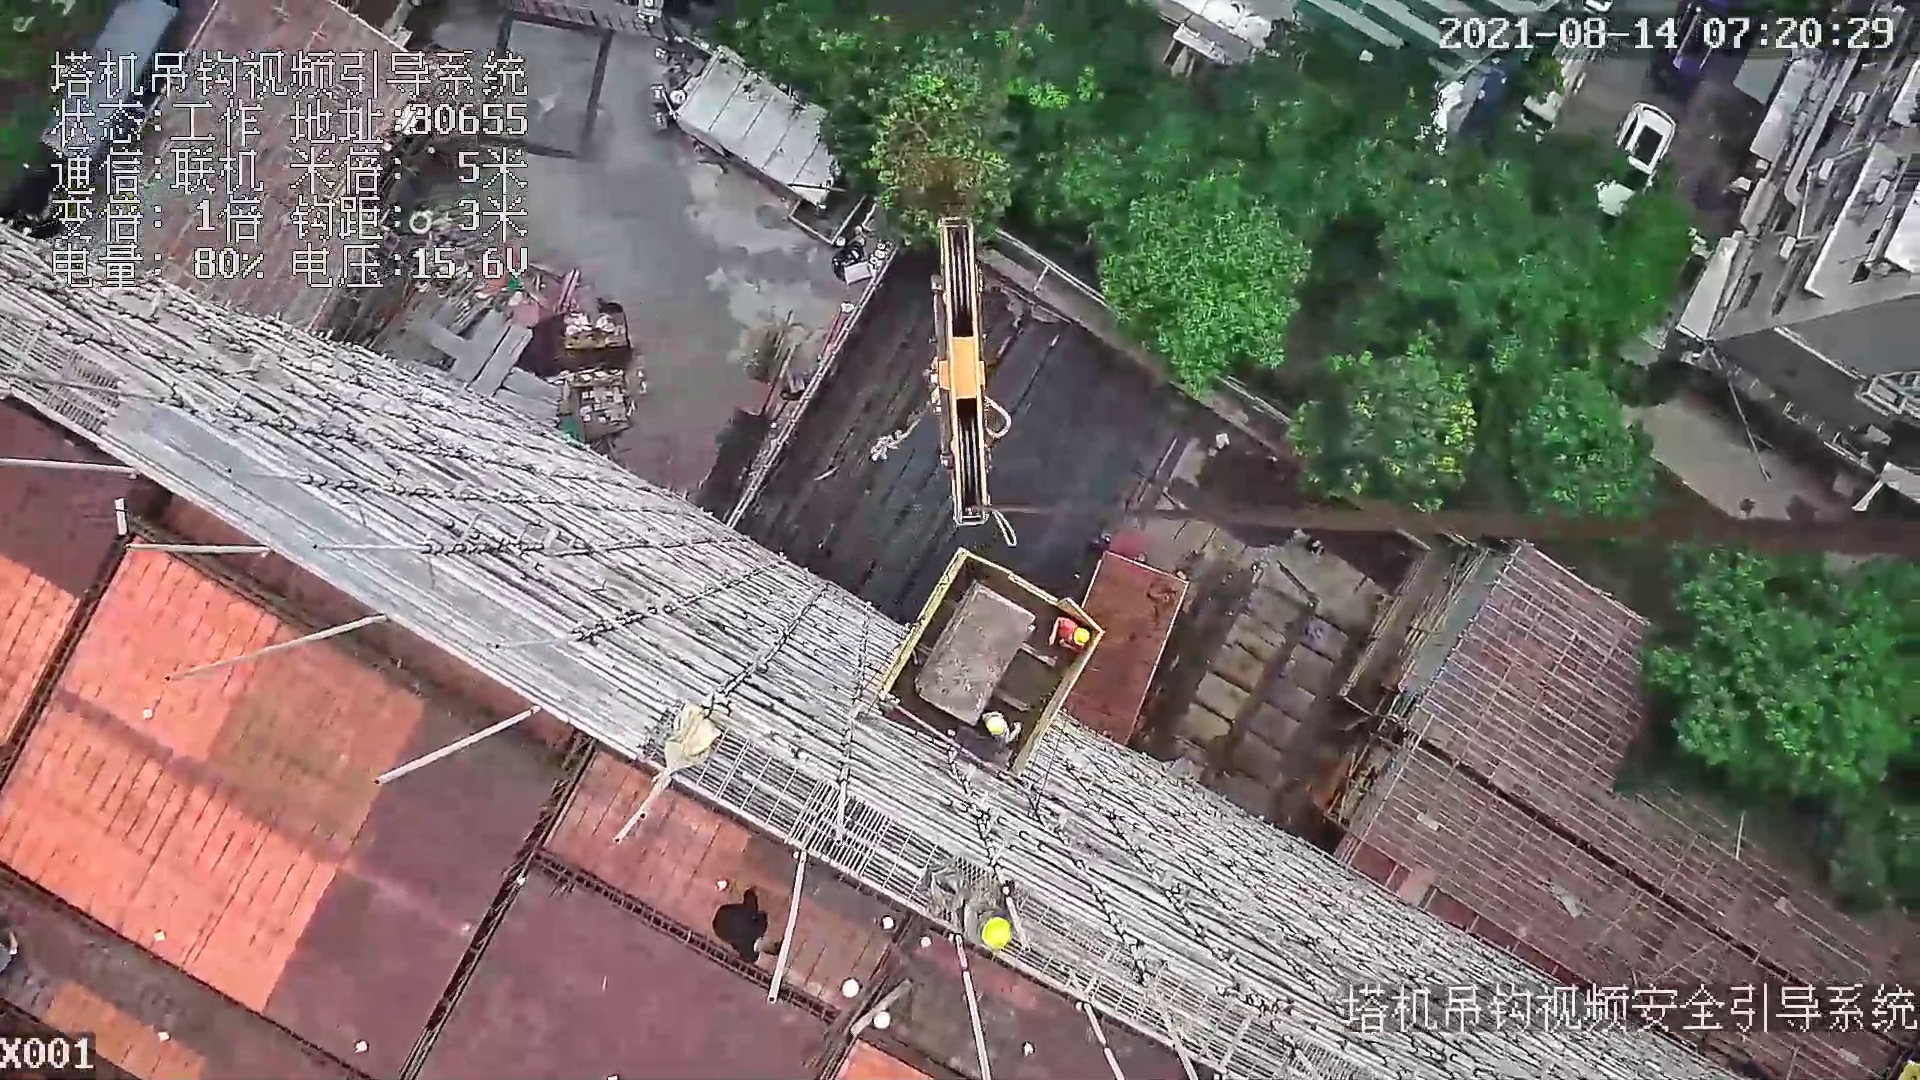helmet: (982, 914, 1012, 951), (984, 714, 1007, 738), (1073, 626, 1089, 646)
hook: (915, 214, 1012, 537)
person: (715, 889, 788, 971), (954, 877, 1022, 955), (979, 709, 1038, 759), (1046, 613, 1091, 655)
